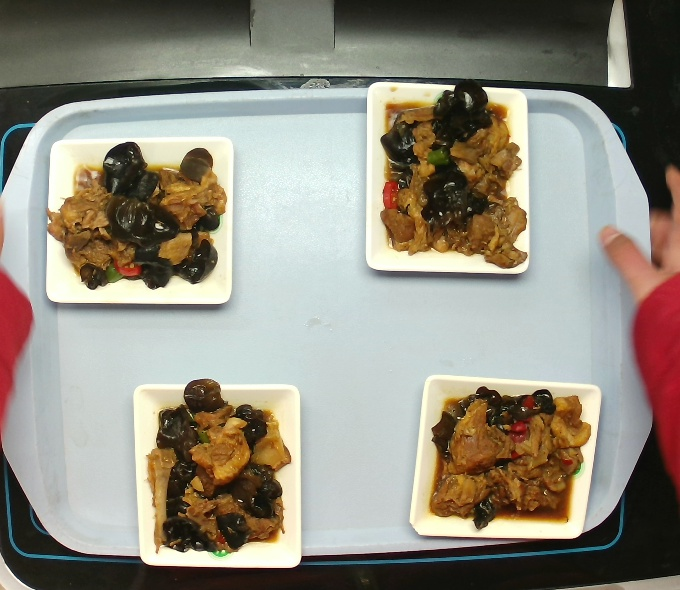wcq-MuErYaRou: (376, 83, 533, 268), (43, 145, 240, 291), (150, 382, 291, 553), (430, 386, 584, 528)
